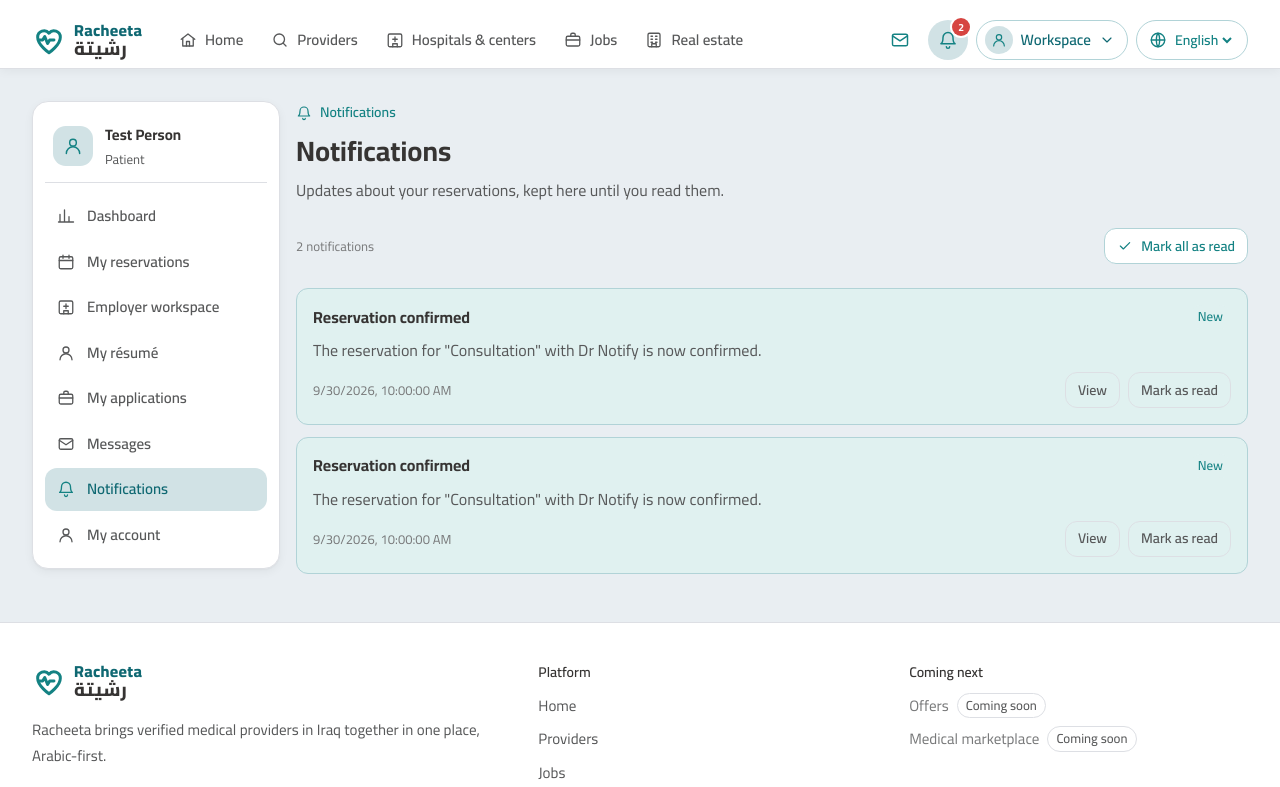
Test case: NotificationsPage › marks all read, is disabled in flight, and takes the new count from the backend
The image size is (1280, 787).
Expected: the text with test id "notifications-badge" reads "2", x1=958 y1=17 x2=964 y2=37
Click the button "Mark all as read": (1176, 246) x1=1104 y1=228 x2=1248 y2=264
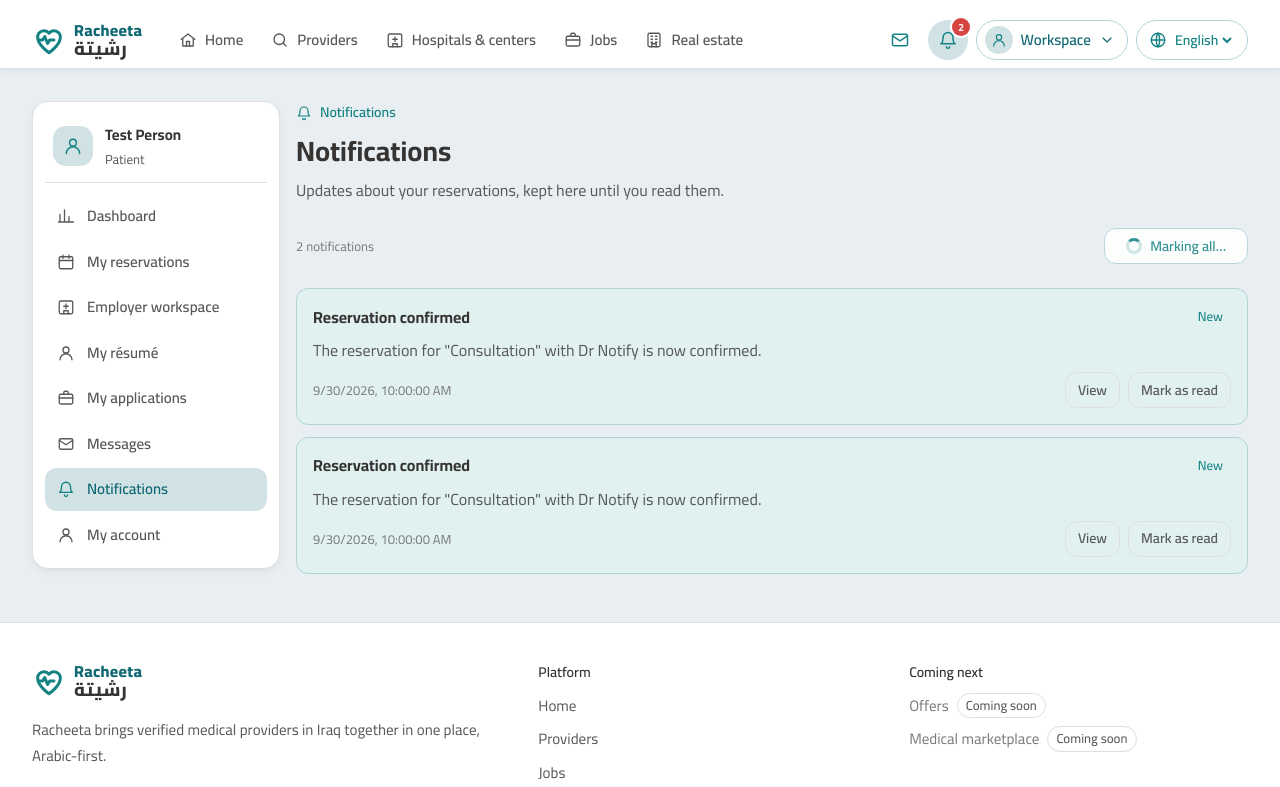
Now the button named "Mark all as read" is disabled
Click the button named "Mark all as read": (1176, 246) x1=1104 y1=228 x2=1248 y2=264
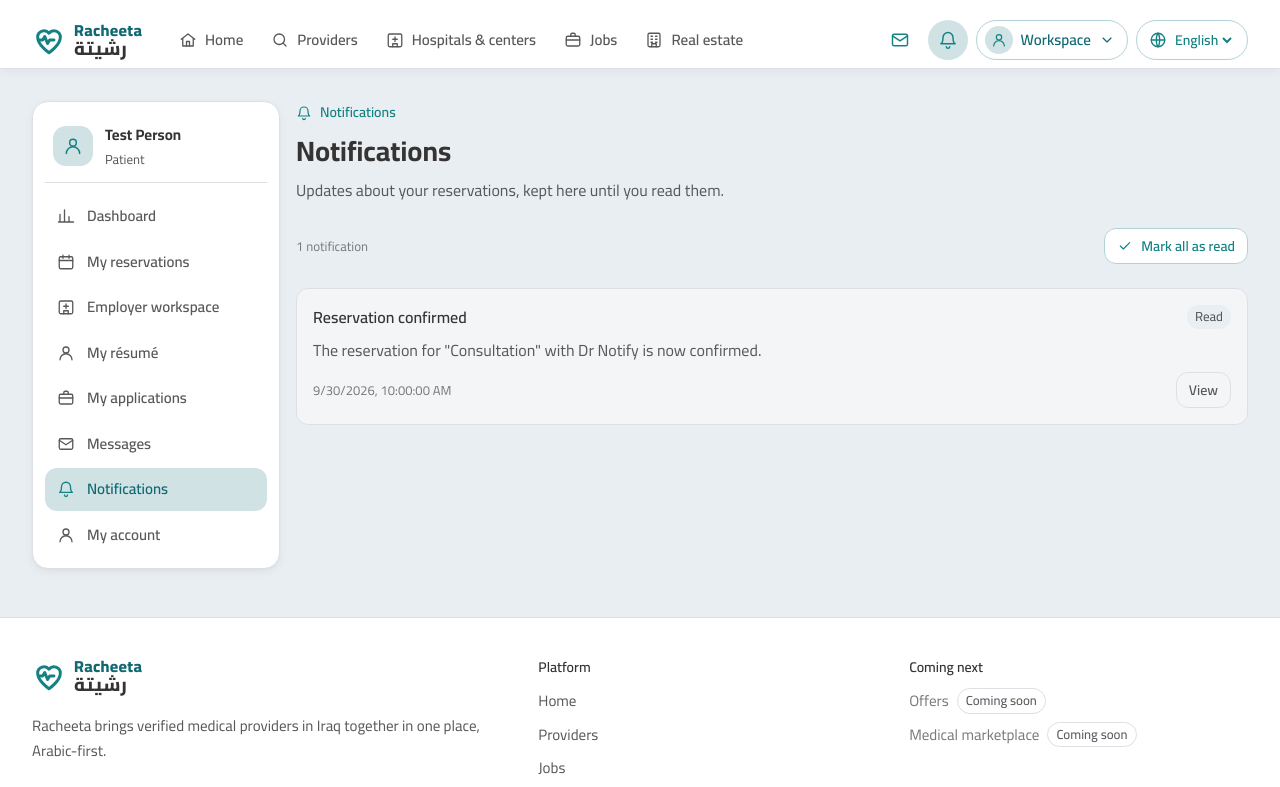
Now the text with test id "notifications-badge" is gone
